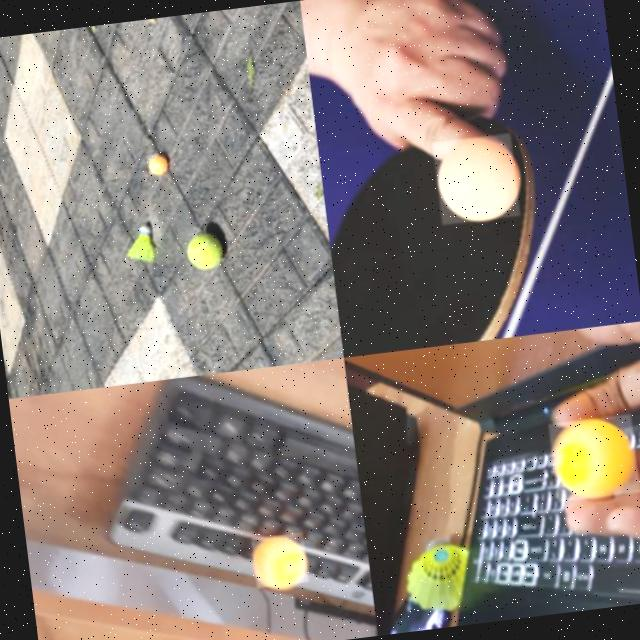ping-pong-ball: (430, 132, 520, 227), (546, 413, 640, 503), (250, 532, 308, 590), (145, 153, 168, 175)
